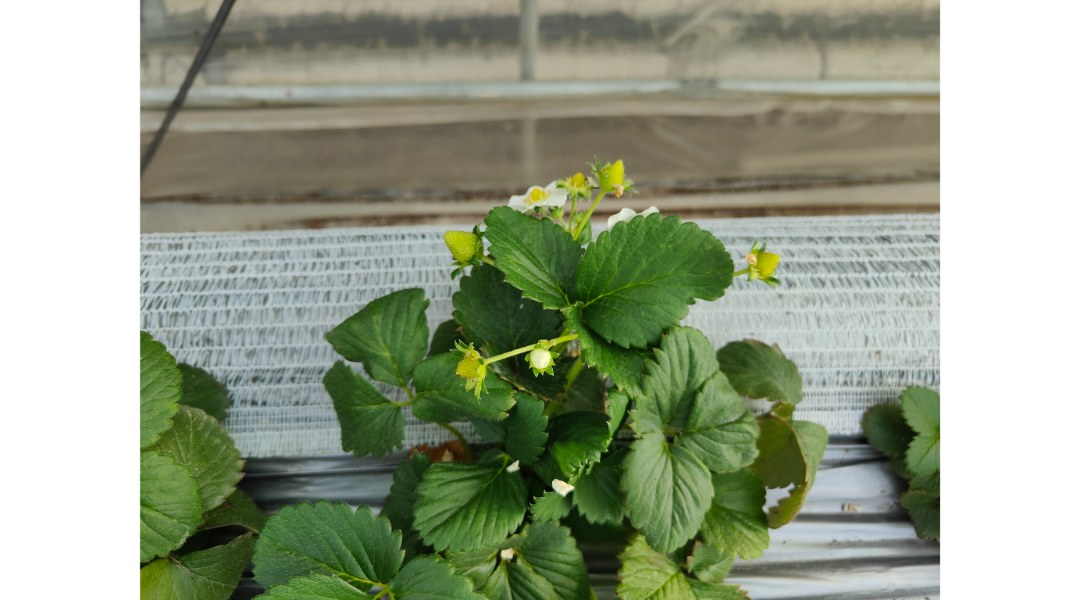berry: (446, 342, 491, 398), (442, 221, 488, 263), (748, 244, 791, 285)
flower: (588, 153, 635, 200), (507, 182, 568, 211), (525, 341, 561, 375), (608, 206, 668, 225)
strain: (484, 333, 521, 372), (579, 193, 602, 237)
